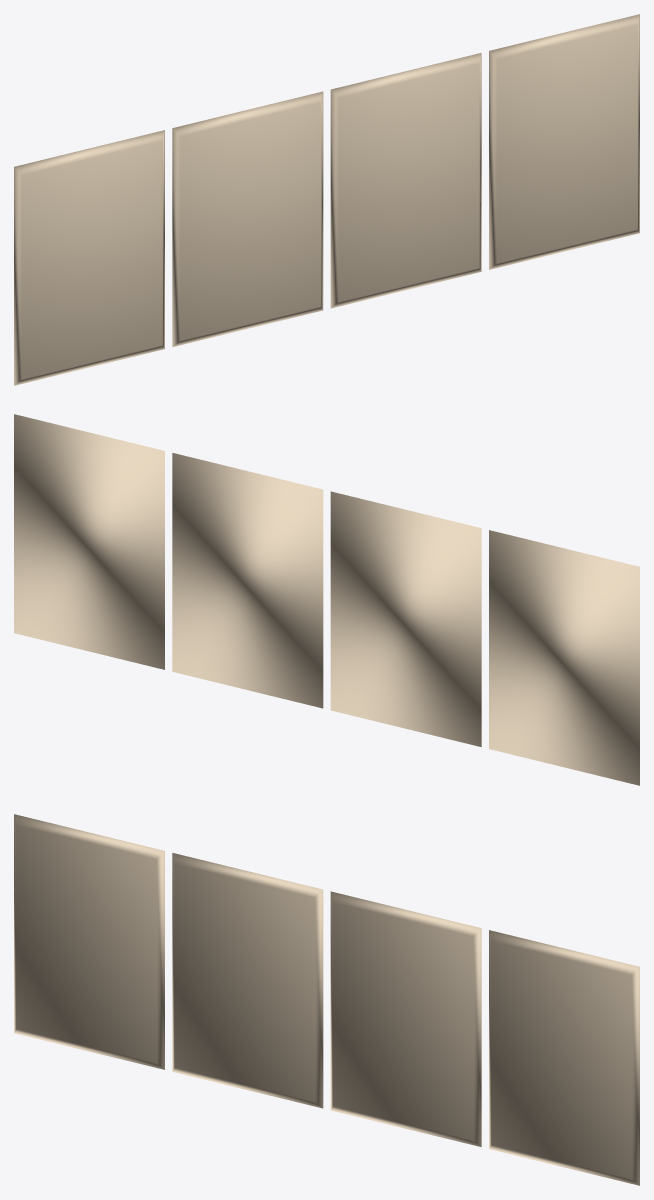
Rendered from Checkout_counter_door.fbx.
3 renders of one model, top to bottom at view 1: azimuth 30°, elevation 25°; view 2: azimuth 150°, elevation 25°; view 3: azimuth 330°, elevation 25°, orthographic.
Visible parts, largest first — view 1: Checkout_counter_door; view 2: Checkout_counter_door; view 3: Checkout_counter_door.
Part boxes in pixels (left/top/right/bottom): Checkout_counter_door: left=14, top=14, right=639, bottom=385; Checkout_counter_door: left=14, top=414, right=639, bottom=785; Checkout_counter_door: left=14, top=814, right=639, bottom=1185.
Bounding box in the file's own units: 139 × 46.43 × 1.12.
